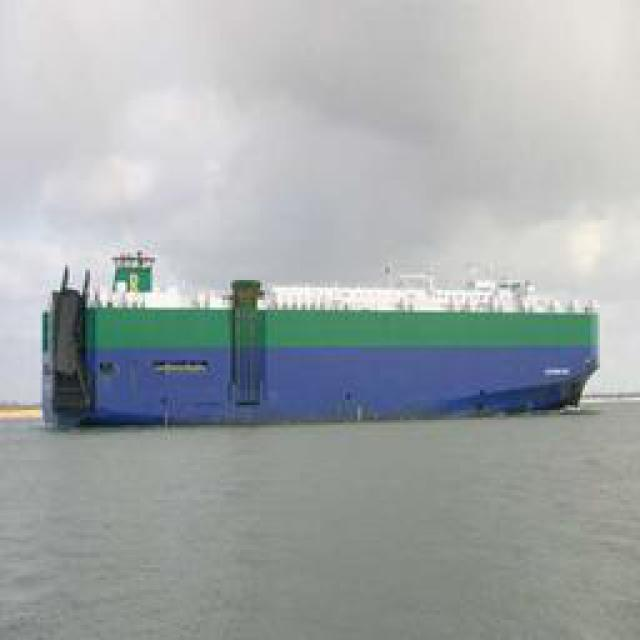Ship: (44, 266, 607, 421)
